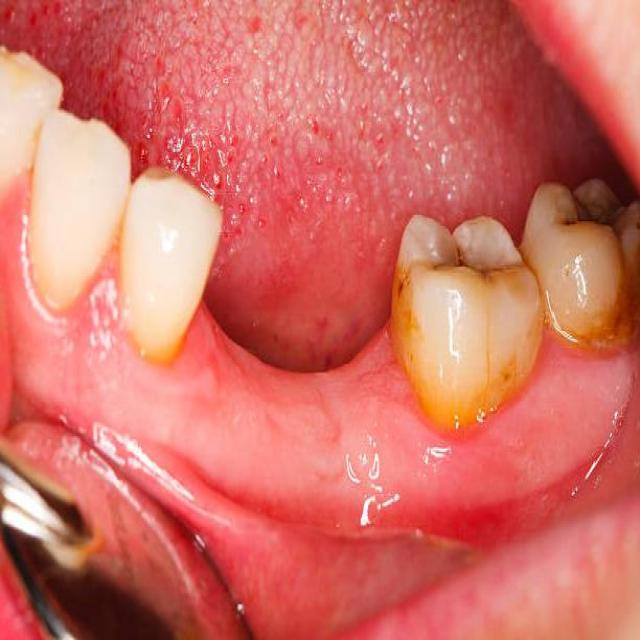caries: (426, 225, 504, 302), (546, 175, 622, 245)
